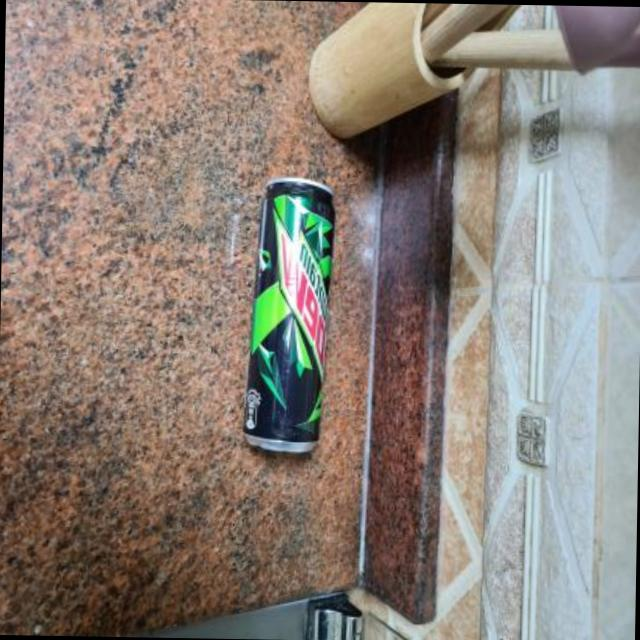metal: (247, 180, 336, 453)
